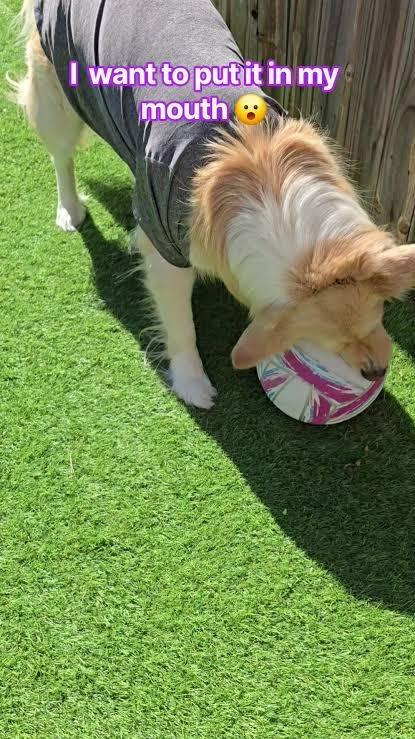adult_dog: (9, 1, 415, 410)
